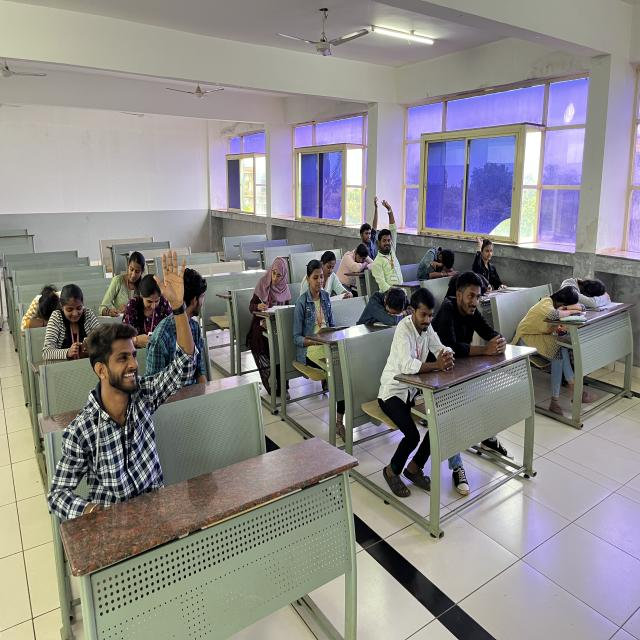Hand Rising: (83, 253, 195, 435), (372, 184, 407, 288), (474, 225, 514, 290), (352, 193, 386, 252)
Reading: (291, 255, 349, 347), (308, 242, 359, 311)
Sleeping: (18, 266, 72, 339), (355, 275, 415, 339), (407, 229, 464, 285)
Using Phone: (43, 279, 106, 368), (120, 273, 173, 342)
Writing: (101, 241, 156, 320), (242, 251, 296, 321)
